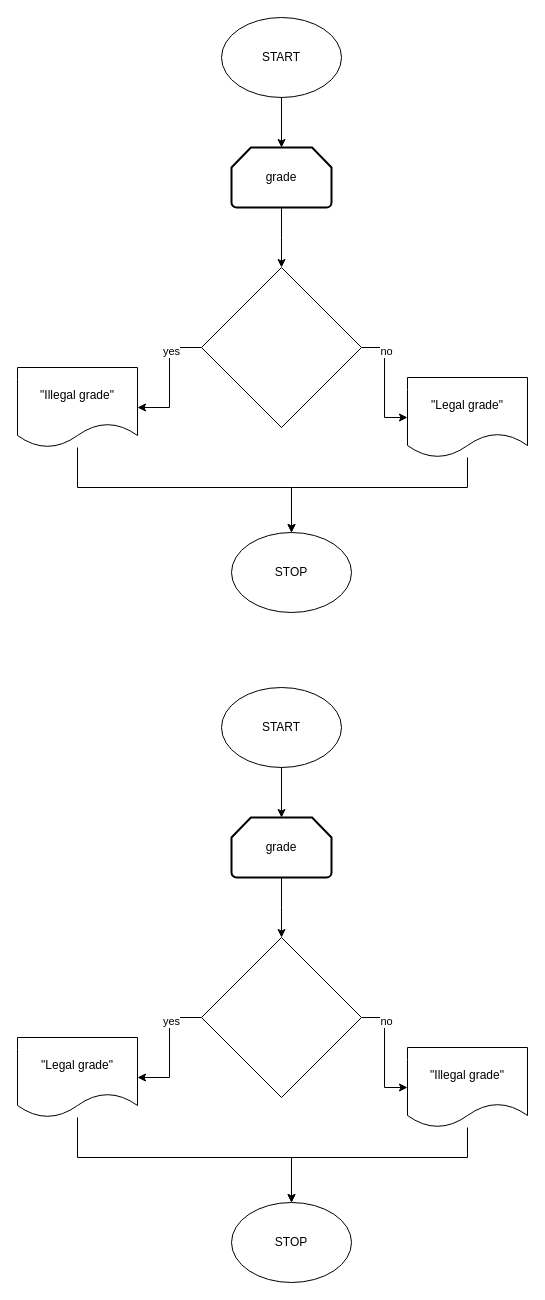
Image size: 545x1300. Some labels were removed from this diagram. The shapes that lost their labels are listed below. From the top down, each one's centre as x and y in pixels, then its label:
At (x=281, y=347): "grade < 0 OR grade > 100".
At (x=281, y=1017): "grade >= 0 AND grade <= 100".
